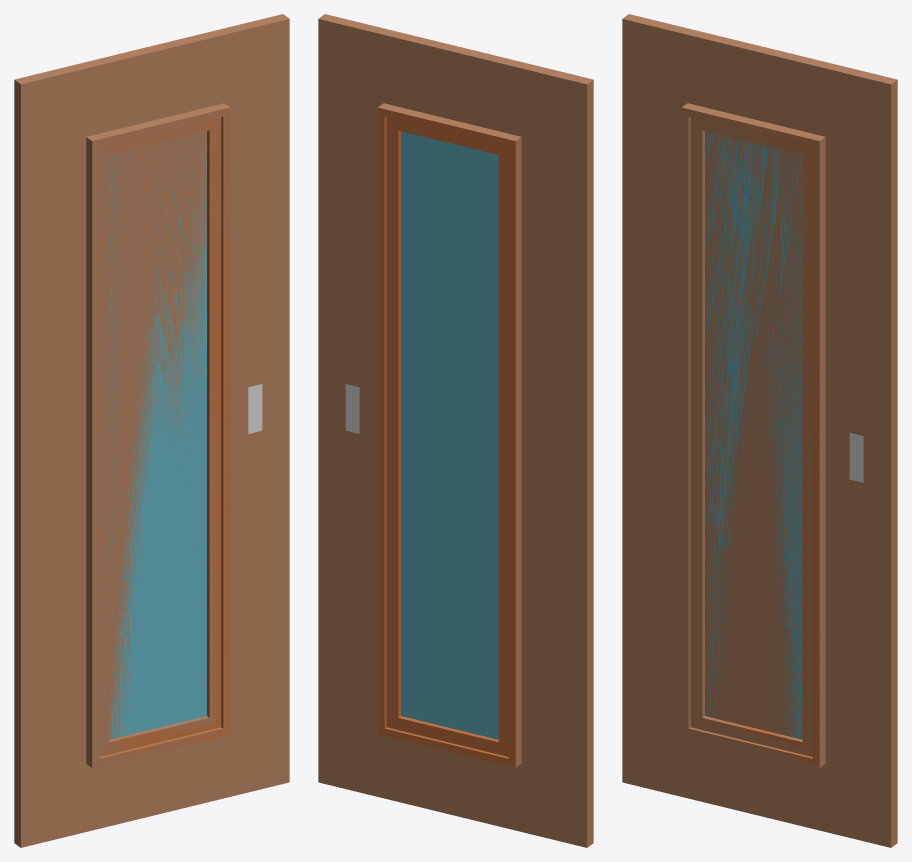
Rendered from Door 1.fbx.
The picture shows the model from 3 angles, left to right: view 1: azimuth 30°, elevation 25°; view 2: azimuth 150°, elevation 25°; view 3: azimuth 330°, elevation 25°; orthographic projection.
Parts seen in each view (by area): view 1: Cube, Cube.001; view 2: Cube, Cube.001; view 3: Cube, Cube.001.
Part boxes in pixels (<box>): Cube: <box>14,14,289,847</box>; Cube.001: <box>248,384,262,433</box>; Cube: <box>318,14,593,847</box>; Cube.001: <box>345,384,359,433</box>; Cube: <box>622,14,897,847</box>; Cube.001: <box>849,433,863,482</box>.
Size of the model in its own units: 70 by 190 by 8.35.
